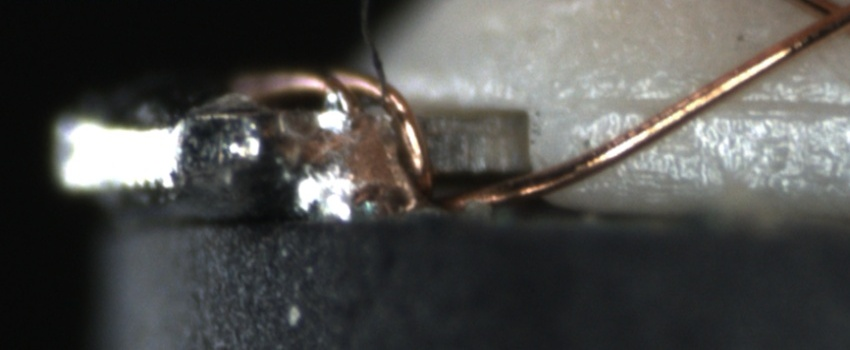CL: (790, 0, 850, 45)
DL: (554, 79, 850, 143)
TE: (224, 64, 449, 202)
